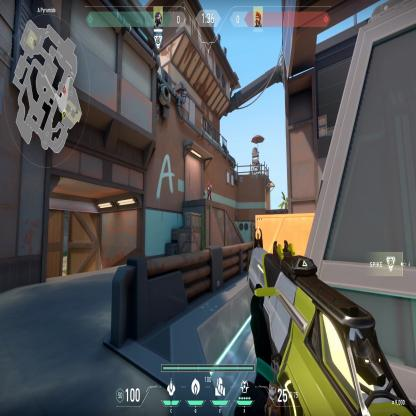enemy: (206, 180, 212, 201)
